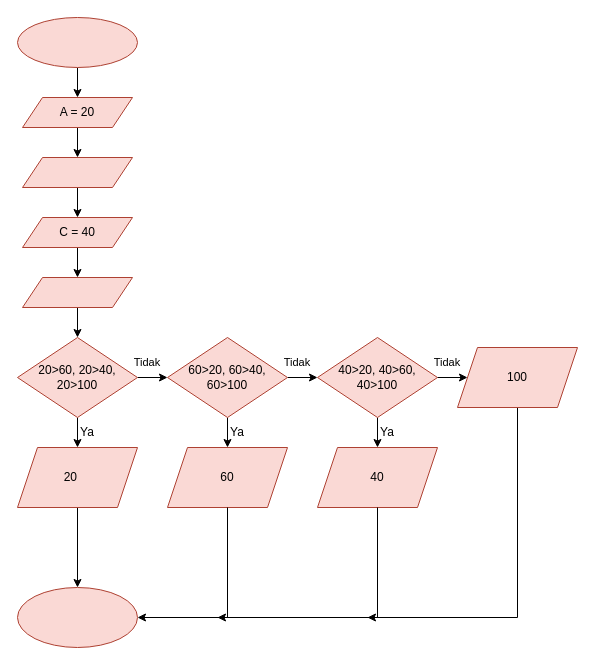
The diagram is 595 pixels wide and 665 high, and some of its shapes have lost their labels. Each missing label, with the centre of its shape:
B = 60: pixel 77 172
D = 100: pixel 77 292
End: pixel 77 617
Start: pixel 77 42
